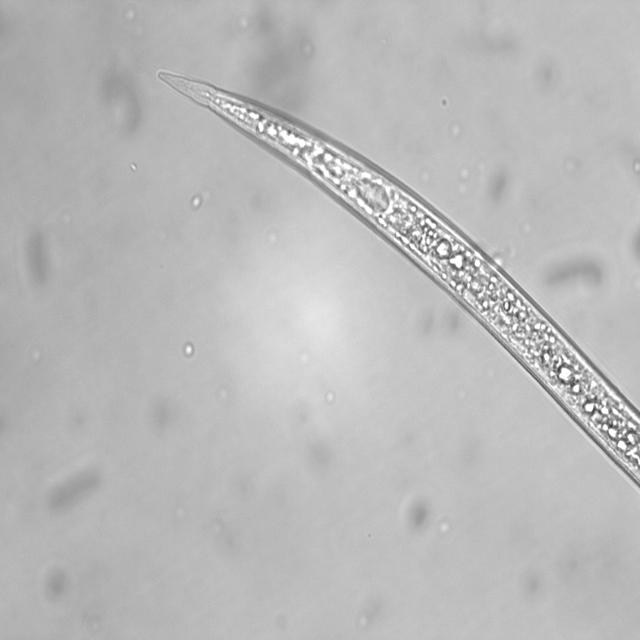Meloidogyne: (153, 70, 640, 497)
